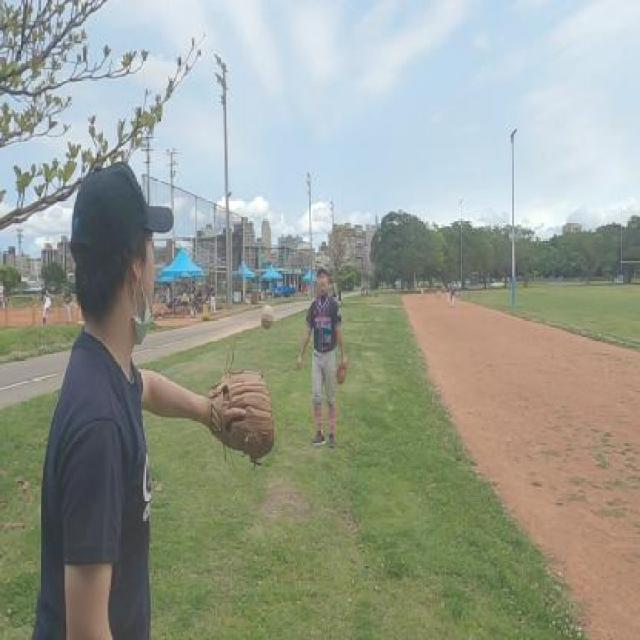sports ball: (260, 306, 274, 330)
